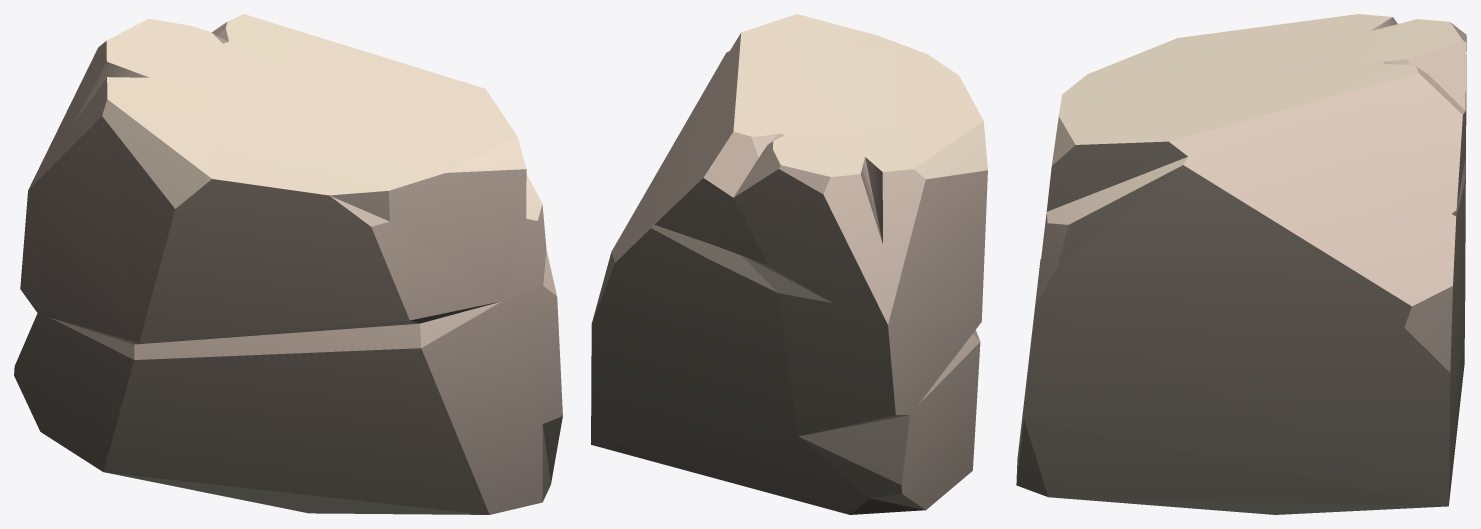
The model's file is Stone_1D.fbx.
The picture shows the model from 3 angles, left to right: view 1: azimuth 30°, elevation 25°; view 2: azimuth 150°, elevation 25°; view 3: azimuth 270°, elevation 25°; orthographic projection. The views are drawn at different scales.
Visible parts, largest first — view 1: Stone_1D; view 2: Stone_1D; view 3: Stone_1D.
Part boxes in pixels (x1=…): Stone_1D: x1=14, y1=14, x2=562, y2=514; Stone_1D: x1=591, y1=14, x2=987, y2=514; Stone_1D: x1=1016, y1=14, x2=1466, y2=514.
Bounding box in the file's own units: 171 × 209 × 191.
